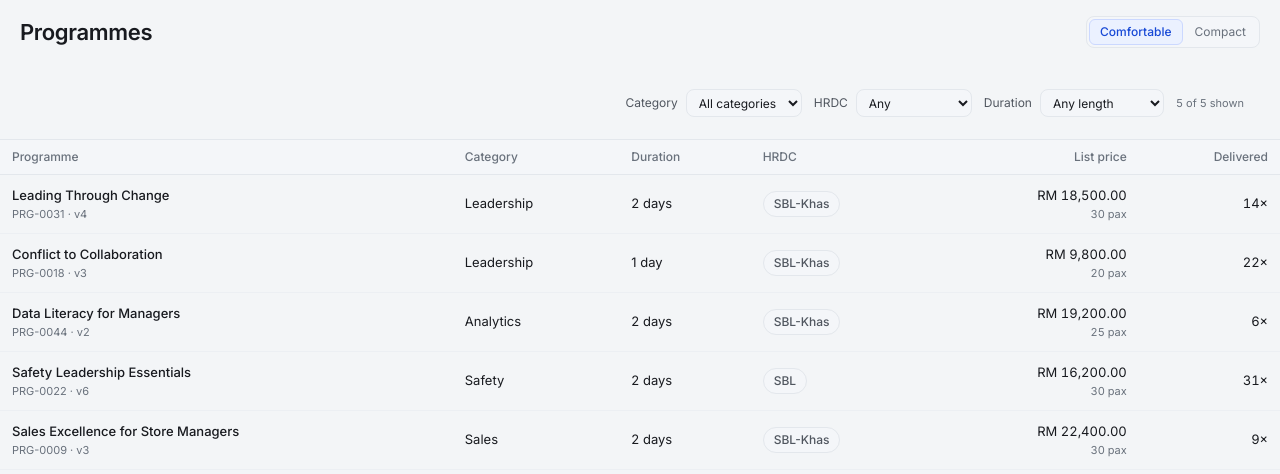
Scenario: M06 · programmes list › filters on HRDC claimability and shows the applied filter as a chip
Expected: the text "Leading Through Change" is shown, [12,187,170,203]
Select "Not claimable" in the dropdown labelled "HRDC" at (914, 103), box [856,89,972,117]
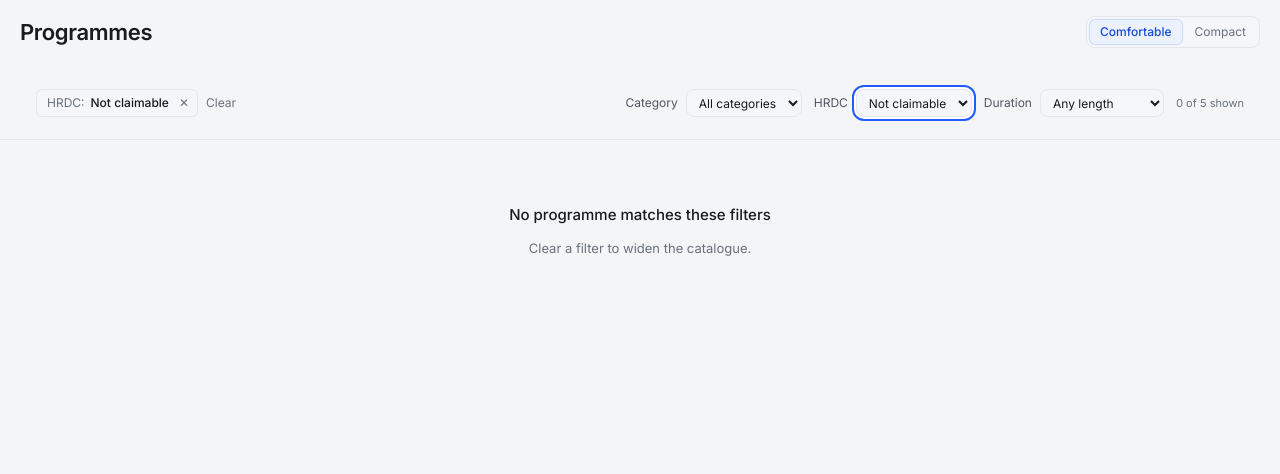
Result: the text "No programme matches these filters" is shown at [509,204,771,226]
Result: the text "HRDC:" is shown at [47,94,84,112]
